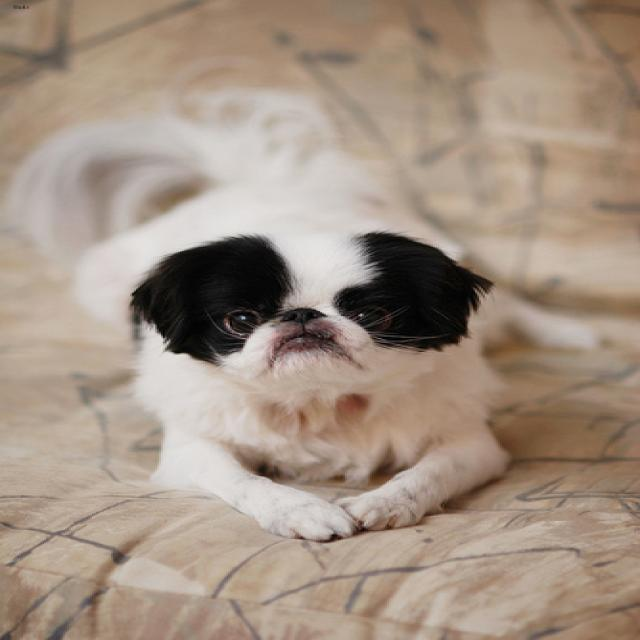dog-japanese_chin: (2, 74, 607, 557)
